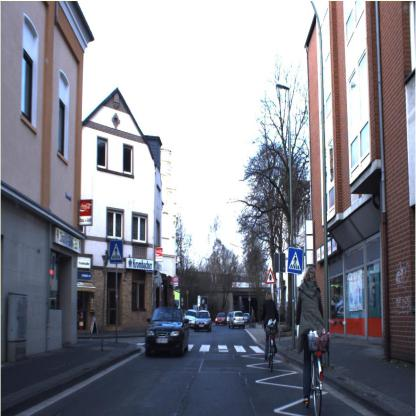danger: (264, 265, 278, 288)
mandatory: (286, 244, 306, 278), (107, 234, 124, 267)
